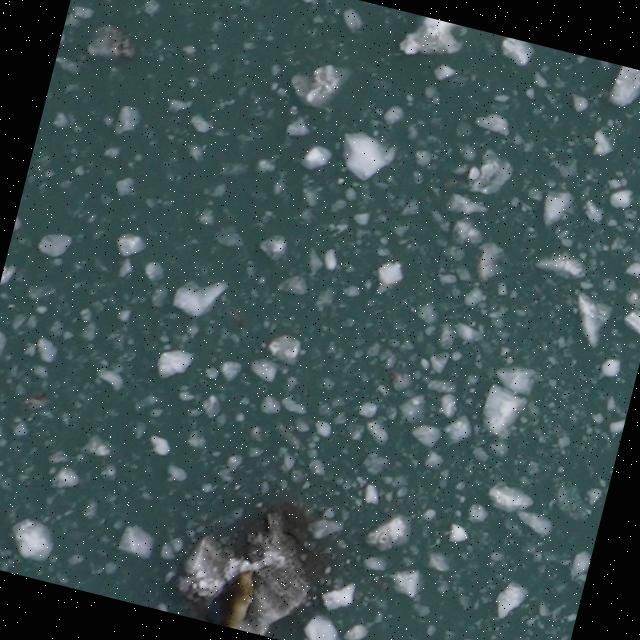seal: (212, 561, 263, 632)
